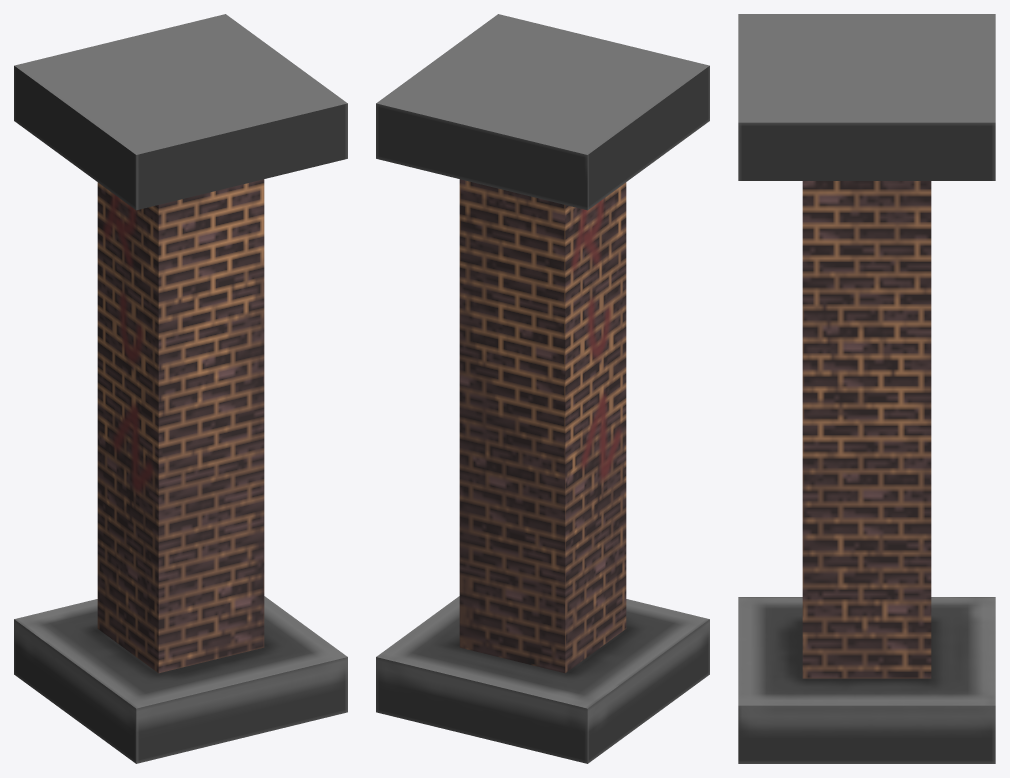
Rendered from Pillar.fbx.
The picture shows the model from 3 angles, left to right: view 1: azimuth 30°, elevation 25°; view 2: azimuth 150°, elevation 25°; view 3: azimuth 270°, elevation 25°; orthographic projection. The views are drawn at different scales.
Parts seen in each view (by area): view 1: cube_1, cube_2, cube; view 2: cube_1, cube_2, cube; view 3: cube_1, cube_2, cube.
Part boxes in pixels (left/top/right/bottom): cube_1: left=97, top=179, right=264, bottom=673; cube_2: left=14, top=14, right=347, bottom=210; cube: left=14, top=596, right=347, bottom=763; cube_1: left=459, top=179, right=626, bottom=673; cube_2: left=376, top=14, right=709, bottom=210; cube: left=376, top=596, right=709, bottom=763; cube_1: left=802, top=181, right=931, bottom=678; cube_2: left=738, top=14, right=995, bottom=180; cube: left=738, top=597, right=995, bottom=763.
Bounding box in the file's own units: 50 × 138 × 50.
Materials: 2 (2 with a texture image).
